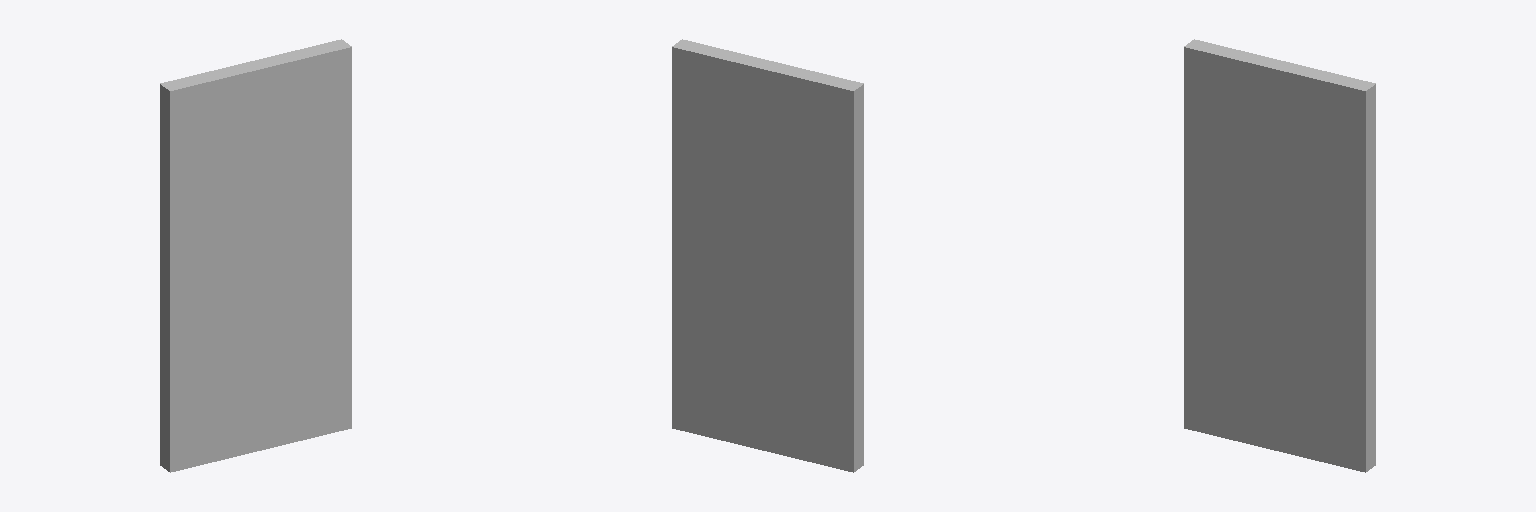
The model's file is Puerta.obj.
3 renders of one model, left to right at view 1: azimuth 30°, elevation 25°; view 2: azimuth 150°, elevation 25°; view 3: azimuth 330°, elevation 25°, orthographic.
Parts seen in each view (by area): view 1: Puerta:pCube346; view 2: Puerta:pCube346; view 3: Puerta:pCube346.
Part boxes in pixels (x1,y1,x2,y2): Puerta:pCube346: (160, 39, 351, 472); Puerta:pCube346: (672, 39, 863, 472); Puerta:pCube346: (1184, 39, 1375, 472).
Size of the model in its own units: 1 by 2 by 0.1.